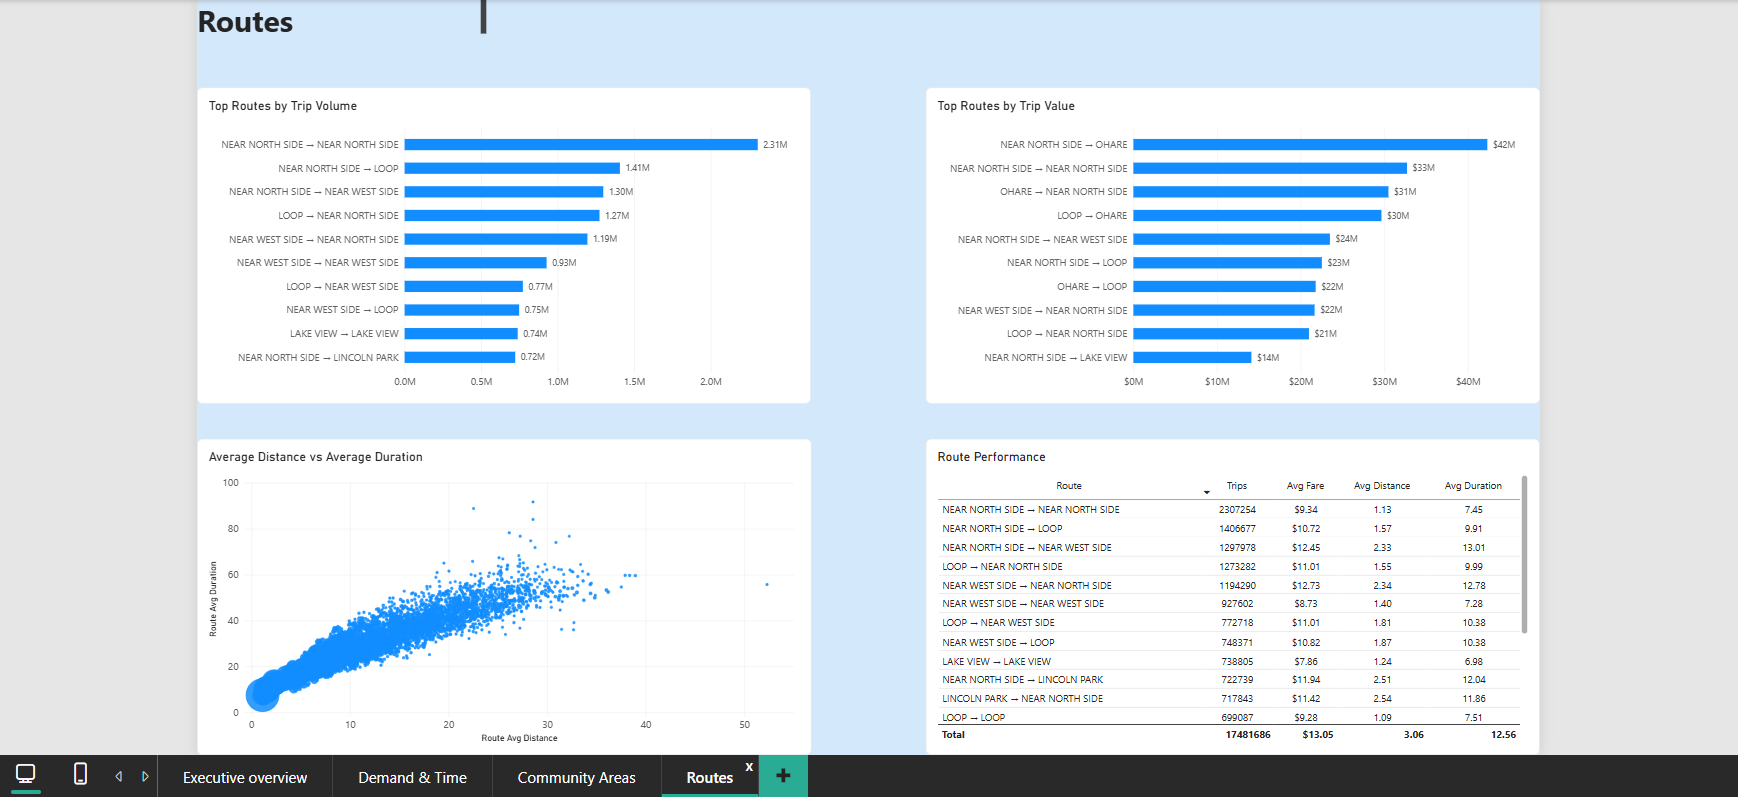

Layout of this report page (visuals, bound fields, positions):
{"tool":"powerbi","page":{"name":"Routes","canvas":[1920,1080],"ordinal":3},"visuals":[{"type":"textbox","box":[0,0,413.9,51.7],"z":0},{"type":"barChart","title":"Top Routes by Trip Volume","fields":{"Category":["route_metrics.Route"],"Y":["Sum(route_metrics.total_trips)"]},"box":[-0.3,125.9,877.8,451.9],"z":1000},{"type":"barChart","title":"Top Routes by Trip Value","fields":{"Category":["route_metrics.Route"],"Y":["Sum(route_metrics.total_trip_value)"]},"box":[1042.3,125.9,878,452],"z":2000},{"type":"scatterChart","title":"Average Distance vs Average Duration","fields":{"Category":["route_metrics.Route"],"Size":["Sum(route_metrics.total_trips)"],"X":["route_metrics.Route Avg Distance"],"Y":["route_metrics.Route Avg Duration"]},"box":[0,627.8,878,452],"z":3000},{"type":"tableEx","title":"Route Performance","fields":{"Values":["route_metrics.Route","Sum(route_metrics.total_trips)","route_metrics.Route Avg Fare","route_metrics.Route Avg Distance","route_metrics.Route Avg Duration"]},"box":[1042.6,627.8,877.8,451.9],"z":4000}]}

Visuals, with their boxes on the page's 1920x1080 design canvas (x1, y1, x2, y2). These are canvas units, not pixel positions in the 1738x797 screenshot, which may show the page scaled, cropped or inside an application window:
textbox: bbox=[0, 0, 414, 52]
"Top Routes by Trip Volume" barChart: bbox=[0, 126, 878, 578]
"Top Routes by Trip Value" barChart: bbox=[1042, 126, 1920, 578]
"Average Distance vs Average Duration" scatterChart: bbox=[0, 628, 878, 1080]
"Route Performance" tableEx: bbox=[1043, 628, 1920, 1080]
